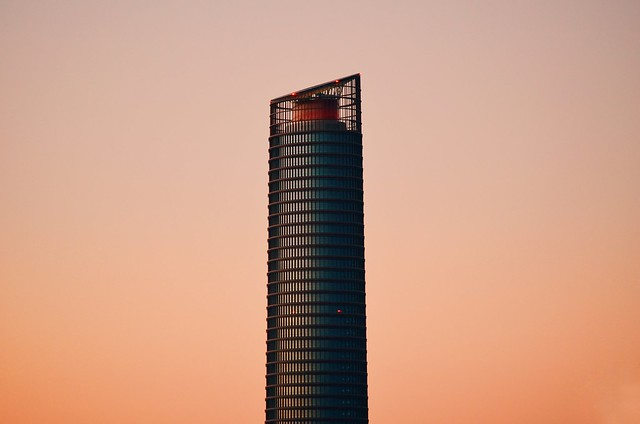low: (256, 70, 374, 421)
